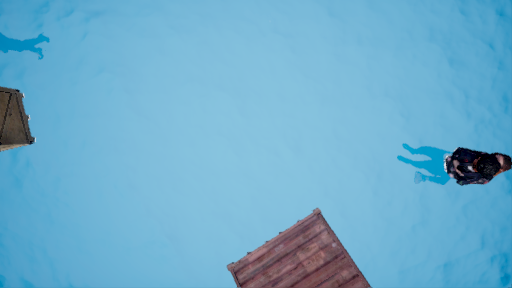person: (403, 141, 512, 193)
